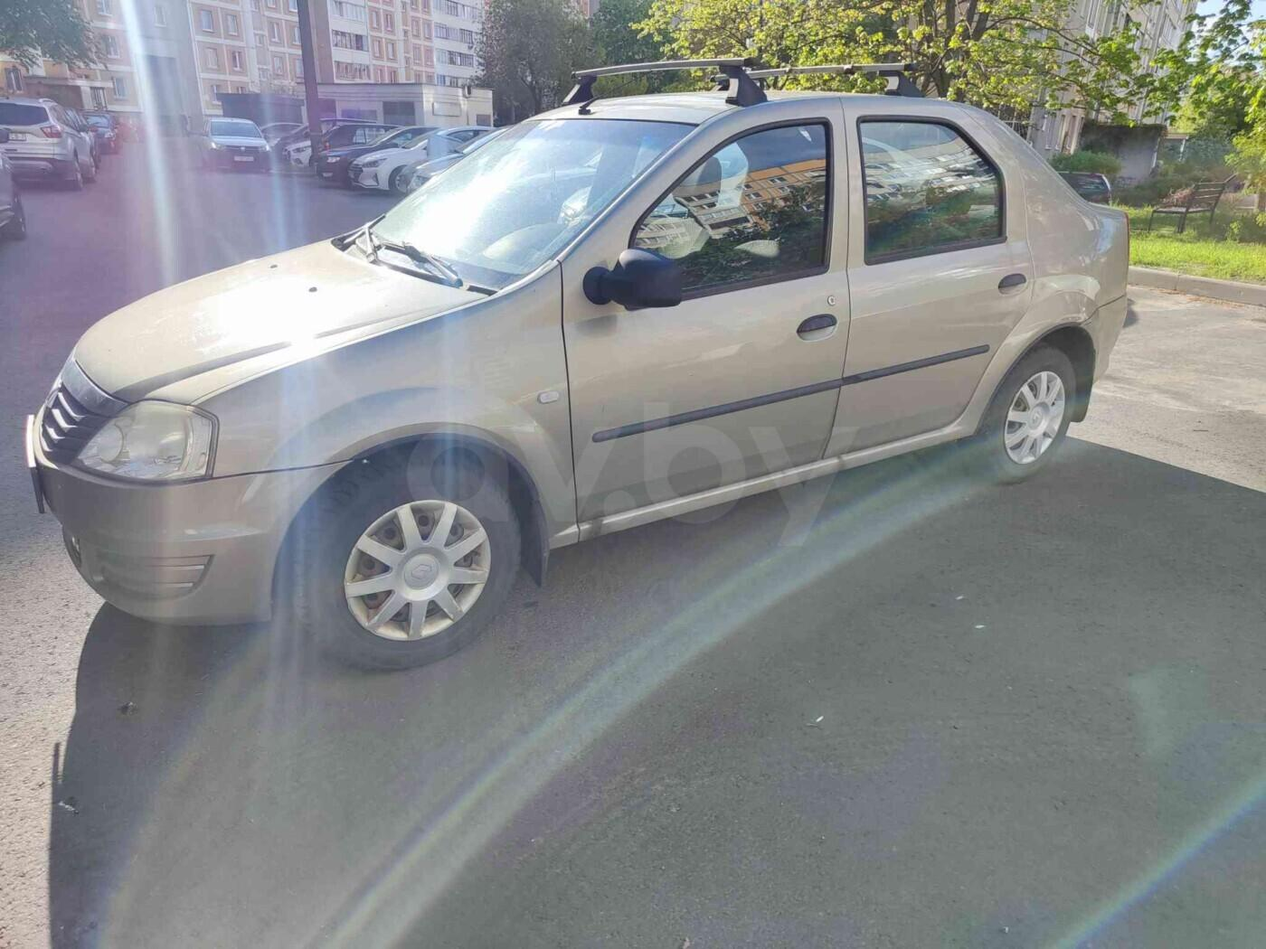Logan_2008-2015: (23, 74, 1136, 662)
